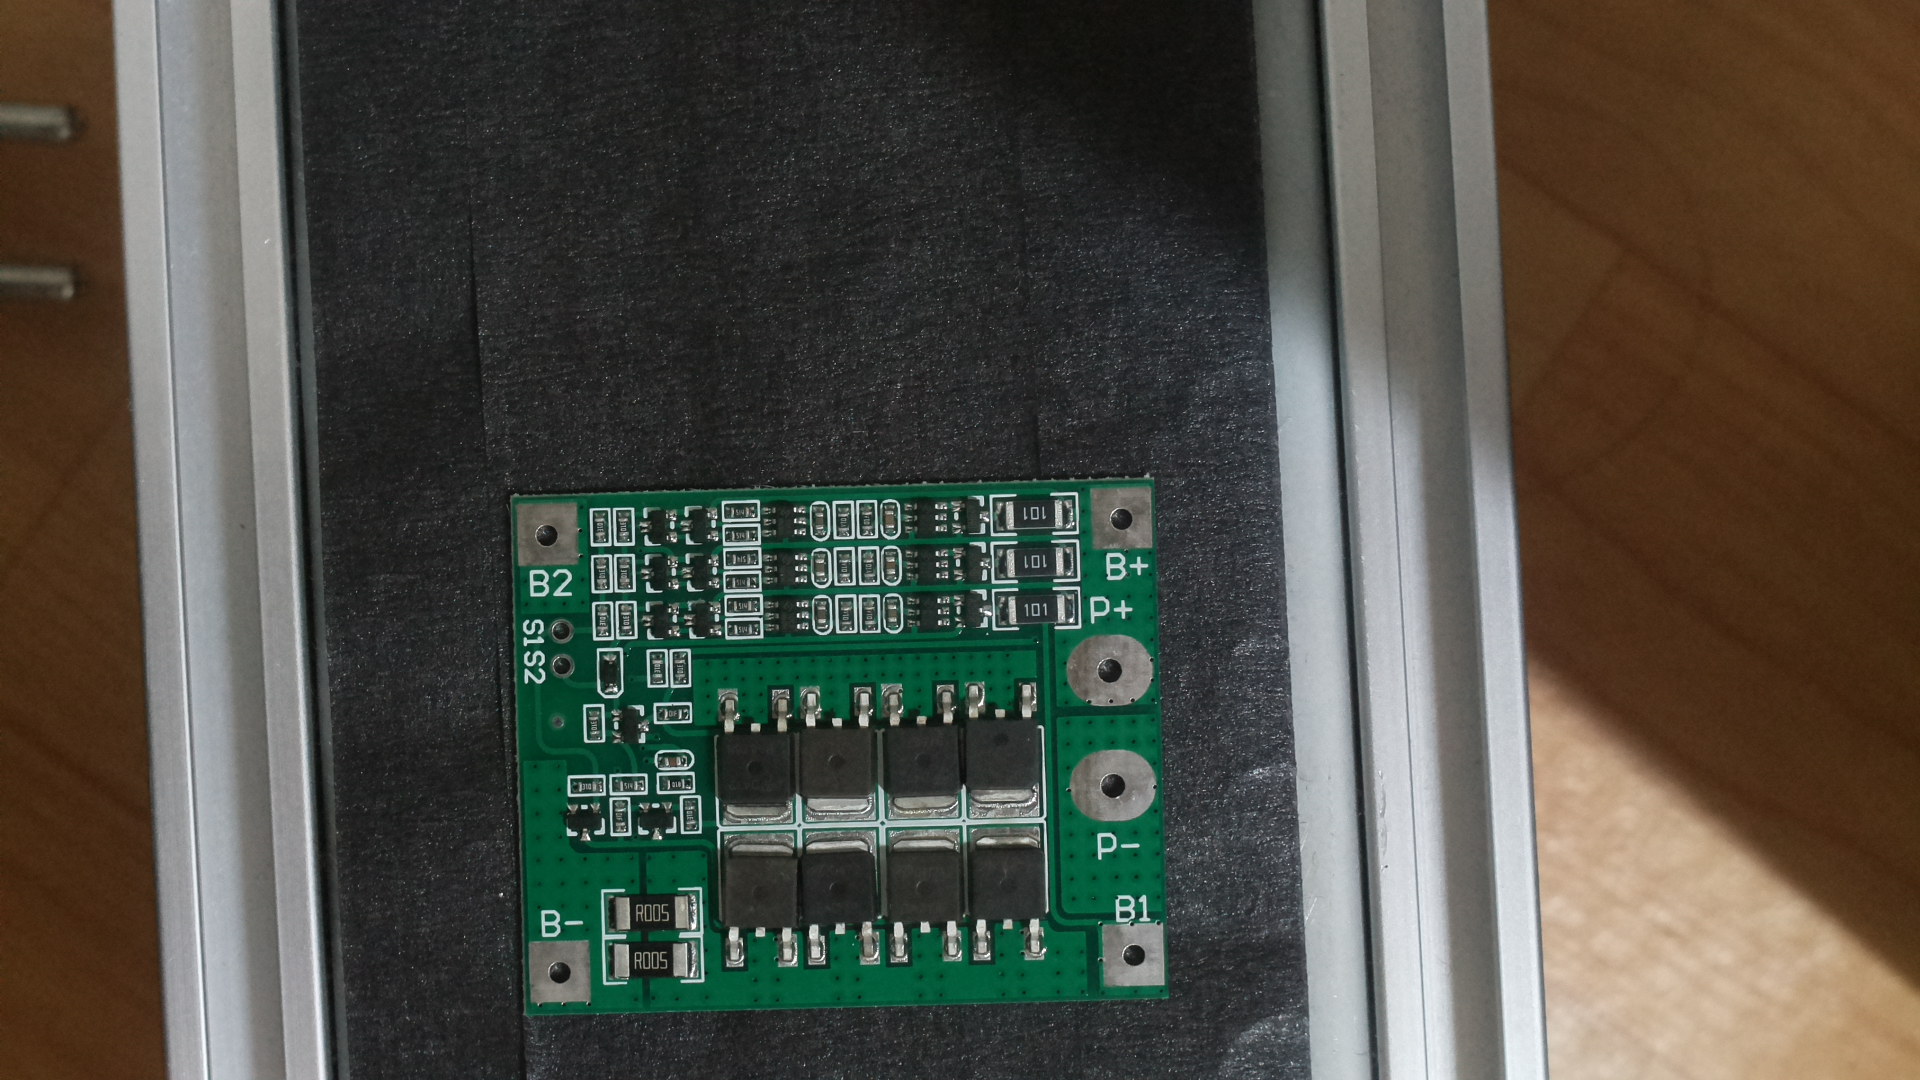C_Normal: (498, 476, 1179, 1027)
